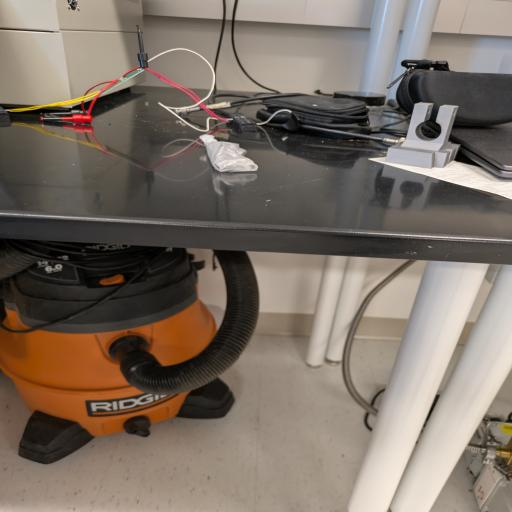rubberband: (200, 134, 261, 174)
